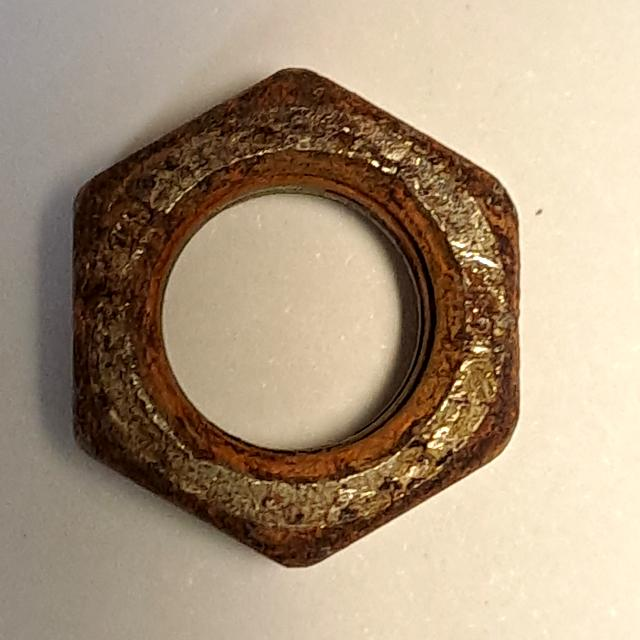Rust: (59, 57, 536, 589)
